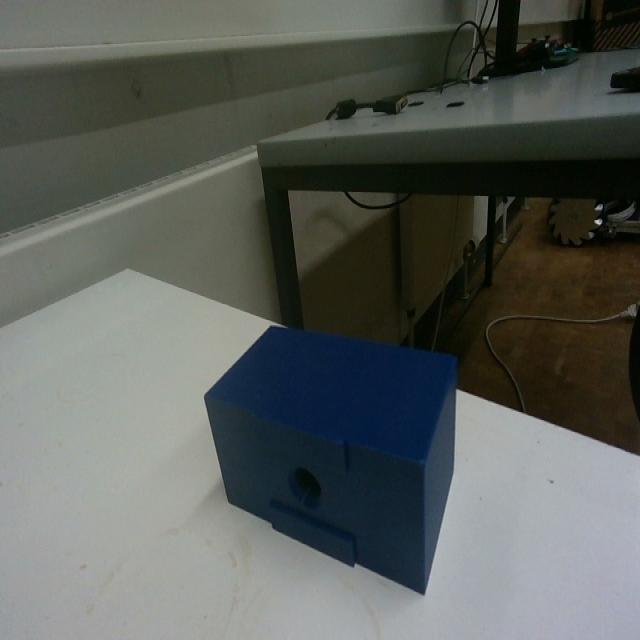Blue Cuboid: (201, 317, 460, 596)
